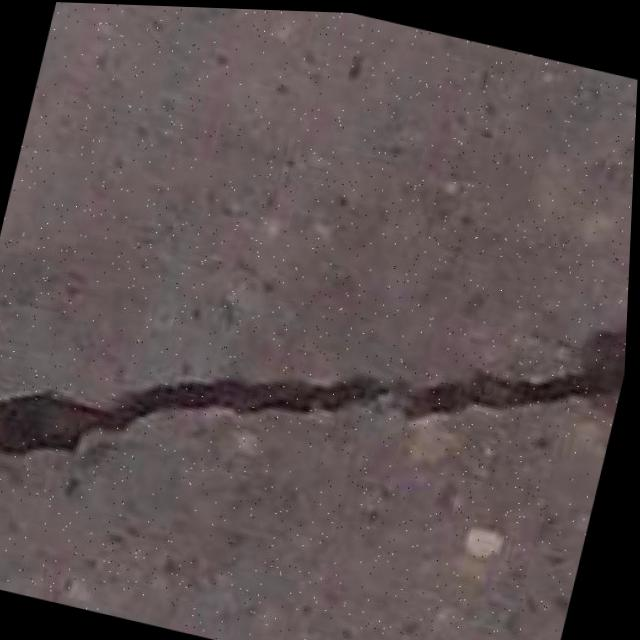Crack: (0, 178, 634, 606)
